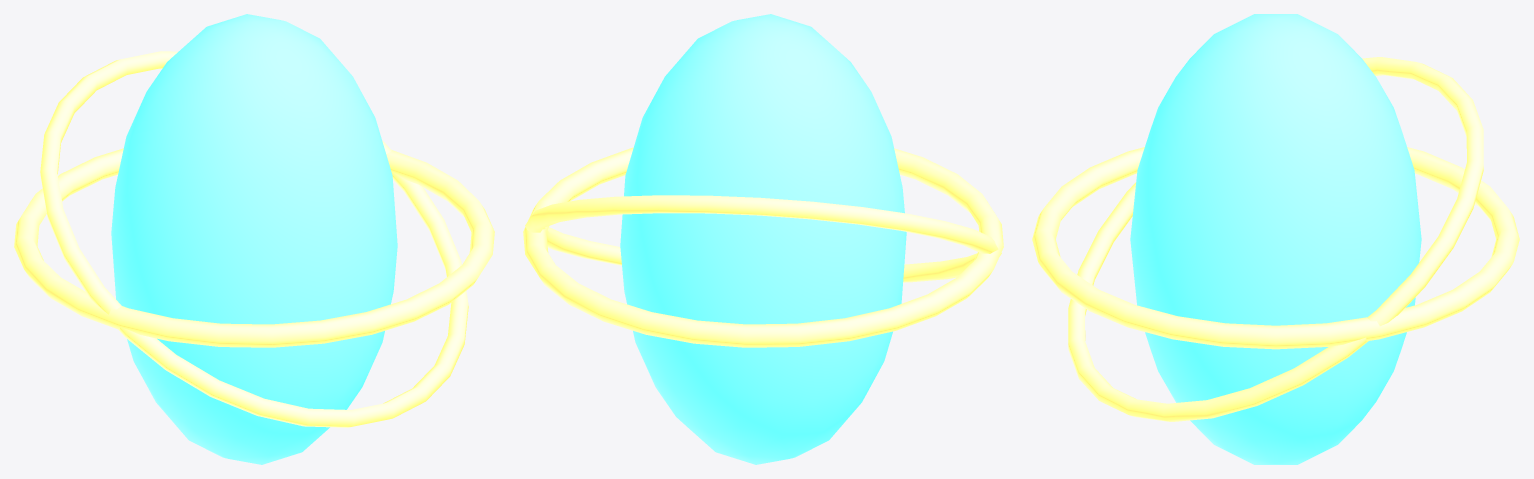
The model's file is sky_core.glb.
The picture shows the model from 3 angles, left to right: view 1: azimuth 30°, elevation 25°; view 2: azimuth 150°, elevation 25°; view 3: azimuth 270°, elevation 25°; orthographic projection.
Visible parts, largest first — view 1: sky_core; view 2: sky_core; view 3: sky_core.
Part boxes in pixels (box(x1,y1,x2,y2)): sky_core: box(14, 14, 494, 464); sky_core: box(523, 14, 1003, 464); sky_core: box(1032, 14, 1519, 464).
Bounding box in the file's own units: 0.904 × 0.9 × 0.904.
